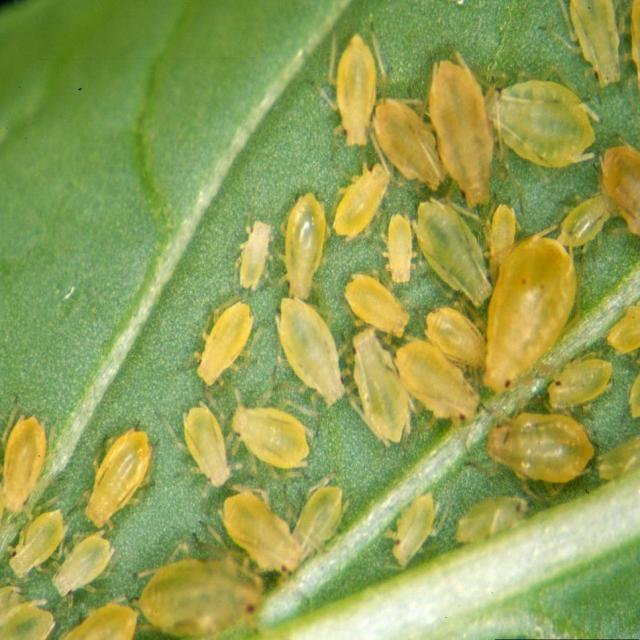Aphids: (176, 11, 640, 570), (1, 397, 277, 640)
